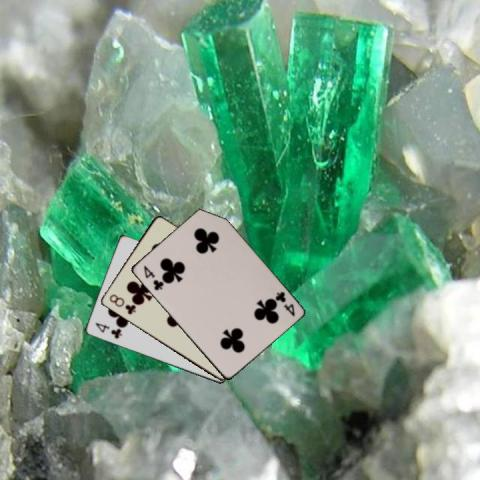4c: (140, 263, 164, 292), (272, 289, 296, 318), (92, 319, 123, 340)
8c: (106, 291, 137, 316)
